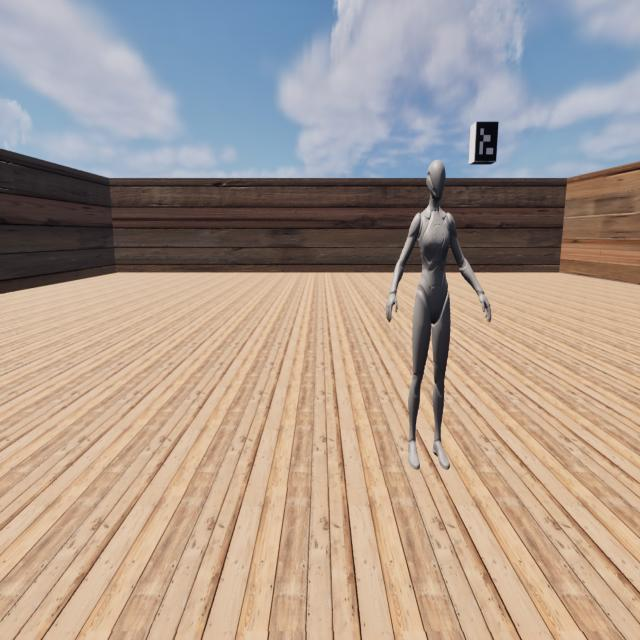aruco: (474, 120, 499, 162)
hip: (415, 290, 450, 302)
